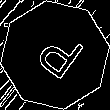P_SW: (25, 23, 85, 87)
